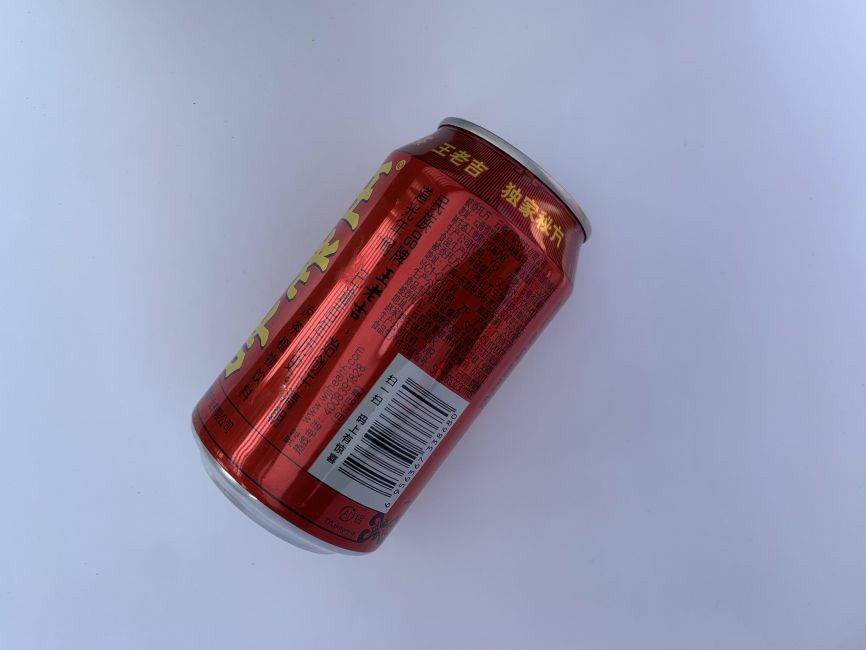can: (182, 107, 599, 568)
